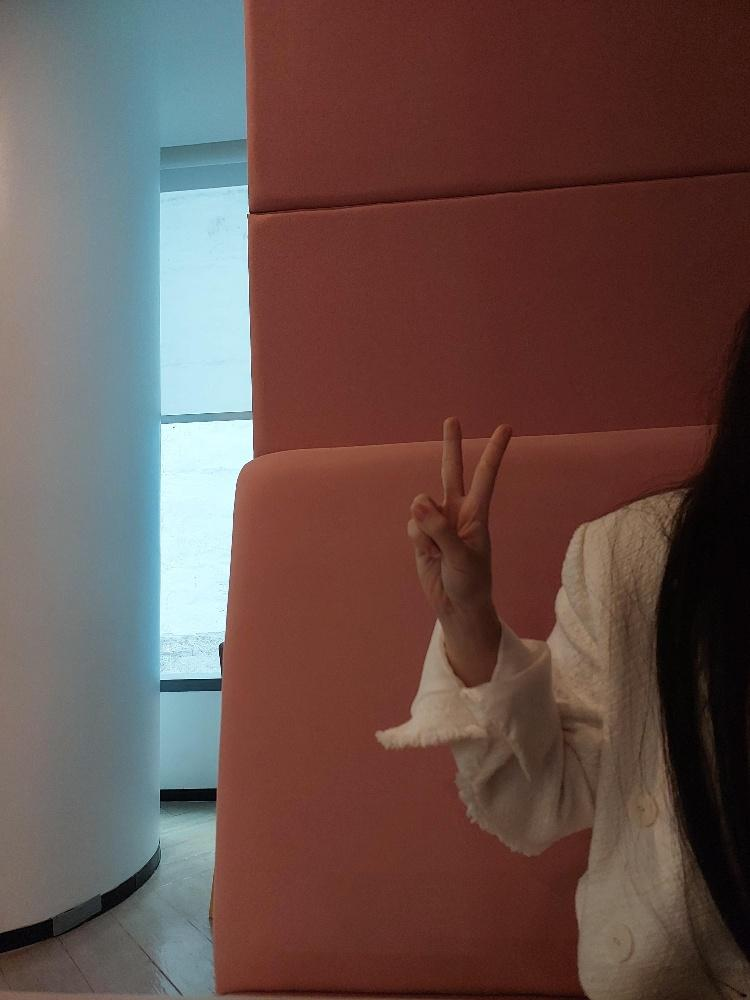v: (405, 413, 511, 607)
